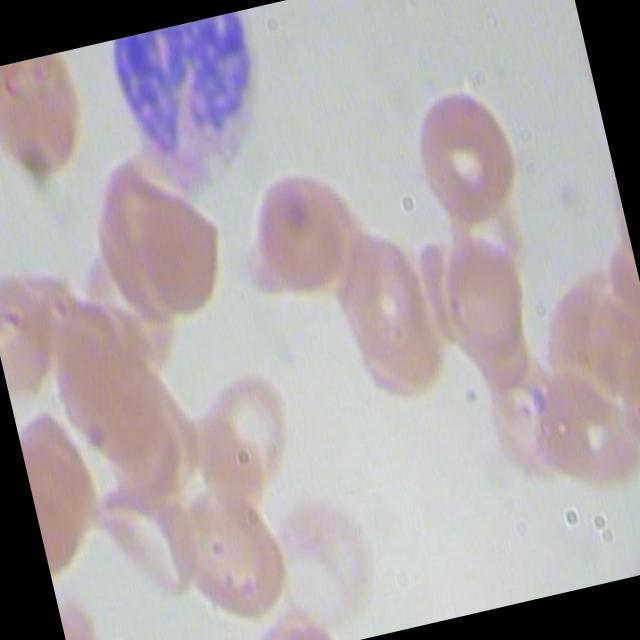RBC: (157, 458, 309, 640), (326, 209, 458, 414), (400, 70, 536, 246), (236, 142, 372, 318), (259, 468, 397, 640), (48, 298, 182, 474), (514, 341, 640, 522), (12, 390, 122, 585), (420, 212, 546, 378), (122, 174, 248, 340), (176, 344, 302, 510), (85, 468, 207, 622), (530, 243, 640, 405), (0, 47, 105, 196), (0, 252, 72, 401)
WBC: (102, 5, 297, 206)
